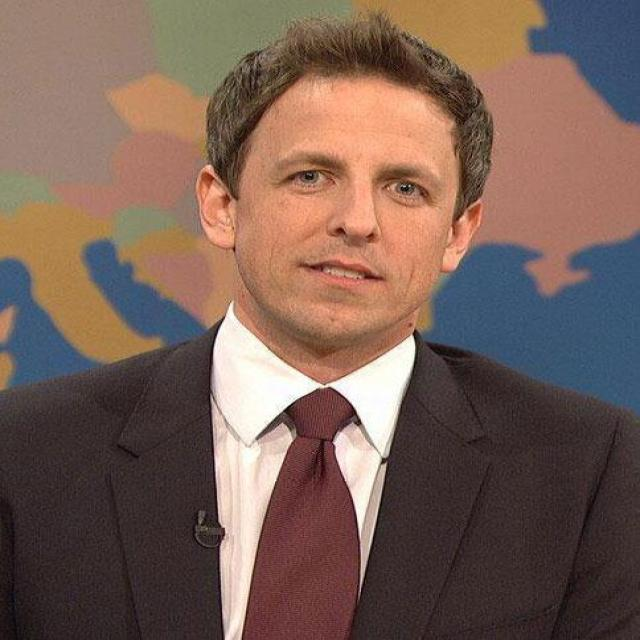0_rostro_limpio: (204, 35, 486, 345)
